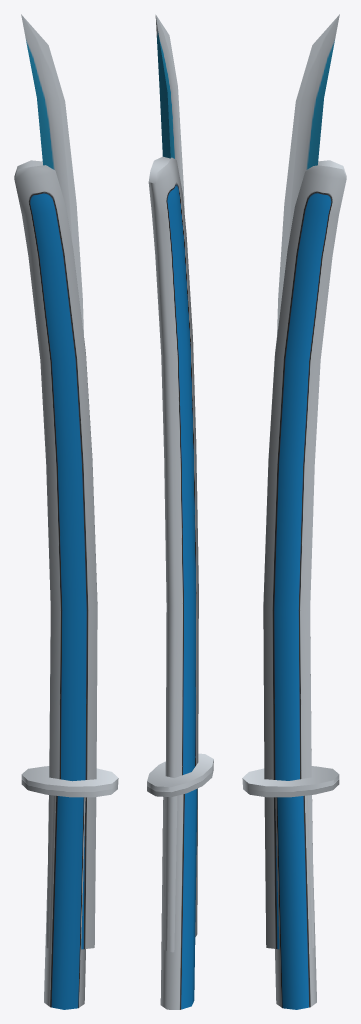
The model's file is WP_2H_Nodachi102.FBX.
3 views of the same model, side by side, from view 1: azimuth 90°, elevation 25°; view 2: azimuth 150°, elevation 25°; view 3: azimuth 270°, elevation 25° (orthographic).
Parts seen in each view (by area): view 1: WP_2H_NodachiScabbard102, WP_2H_Nodachi102; view 2: WP_2H_NodachiScabbard102, WP_2H_Nodachi102; view 3: WP_2H_NodachiScabbard102, WP_2H_Nodachi102.
Part boxes in pixels (<box>): WP_2H_NodachiScabbard102: <box>14,160,97,949</box>; WP_2H_Nodachi102: <box>21,14,118,1009</box>; WP_2H_NodachiScabbard102: <box>148,156,198,952</box>; WP_2H_Nodachi102: <box>147,14,213,1009</box>; WP_2H_NodachiScabbard102: <box>263,160,346,949</box>; WP_2H_Nodachi102: <box>242,14,339,1009</box>.
Bounding box in the file's own units: 7.22 × 158 × 15.08.
